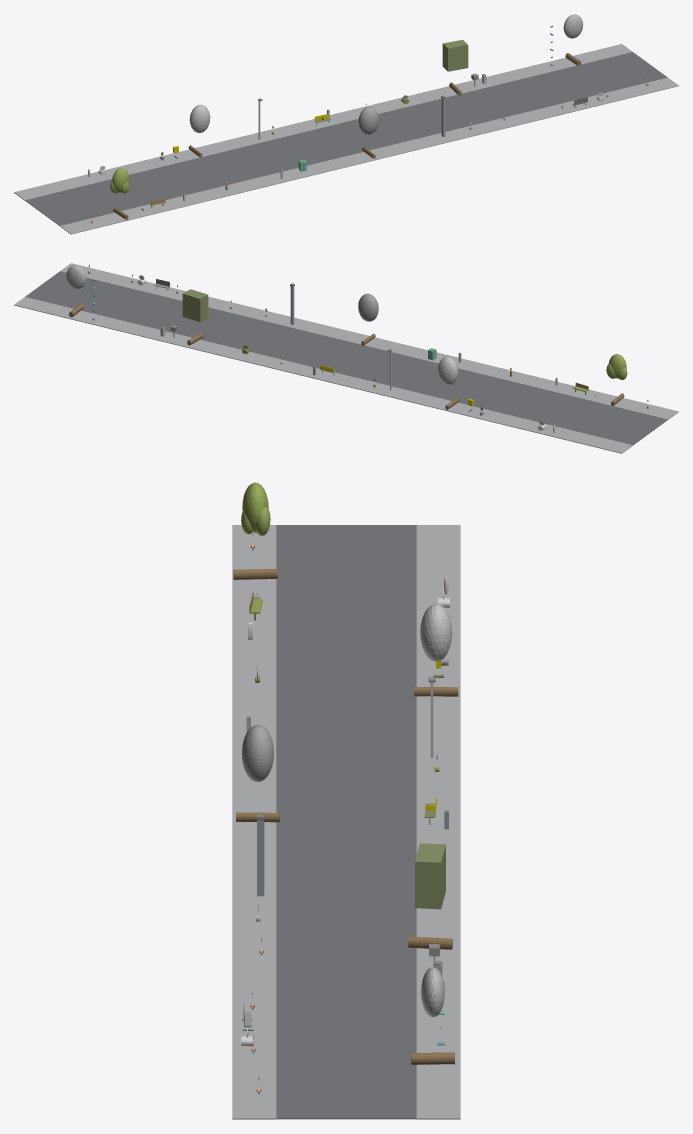
3 renders of one model, top to bottom at view 1: azimuth 30°, elevation 25°; view 2: azimuth 150°, elevation 25°; view 3: azimuth 270°, elevation 25°, orthographic. The views are drawn at different scales.
Parts seen in each view (by area): view 1: road_slab, sidewalk_left, sidewalk_right, inst_0015, inst_0013, inst_0014, inst_0012, inst_0016; view 2: road_slab, sidewalk_right, sidewalk_left, inst_0015, inst_0013, inst_0014, inst_0012, inst_0016; view 3: road_slab, sidewalk_left, sidewalk_right, inst_0015, inst_0013, inst_0014, inst_0012, inst_0016.
Boxes of the visible parts, bbox=[...] form: road_slab: bbox=[25, 52, 667, 225]; sidewalk_left: bbox=[60, 77, 678, 234]; sidewalk_right: bbox=[14, 44, 632, 200]; inst_0015: bbox=[442, 39, 468, 95]; inst_0013: bbox=[188, 104, 210, 157]; inst_0014: bbox=[358, 107, 379, 158]; inst_0012: bbox=[110, 168, 129, 219]; inst_0016: bbox=[563, 14, 583, 66]; road_slab: bbox=[25, 271, 667, 445]; sidewalk_right: bbox=[14, 297, 632, 453]; sidewalk_left: bbox=[60, 263, 678, 419]; inst_0015: bbox=[182, 289, 208, 345]; inst_0013: bbox=[438, 356, 459, 409]; inst_0014: bbox=[358, 293, 378, 345]; inst_0012: bbox=[606, 354, 627, 406]; inst_0016: bbox=[66, 265, 86, 317]; road_slab: bbox=[276, 525, 416, 1119]; sidewalk_left: bbox=[232, 525, 276, 1119]; sidewalk_right: bbox=[416, 525, 460, 1119]; inst_0015: bbox=[408, 843, 452, 949]; inst_0013: bbox=[414, 603, 458, 696]; inst_0014: bbox=[236, 725, 279, 822]; inst_0012: bbox=[233, 482, 277, 579]; inst_0016: bbox=[411, 967, 454, 1064].
Bounding box in the file's own units: 80 × 6.08 × 13.
